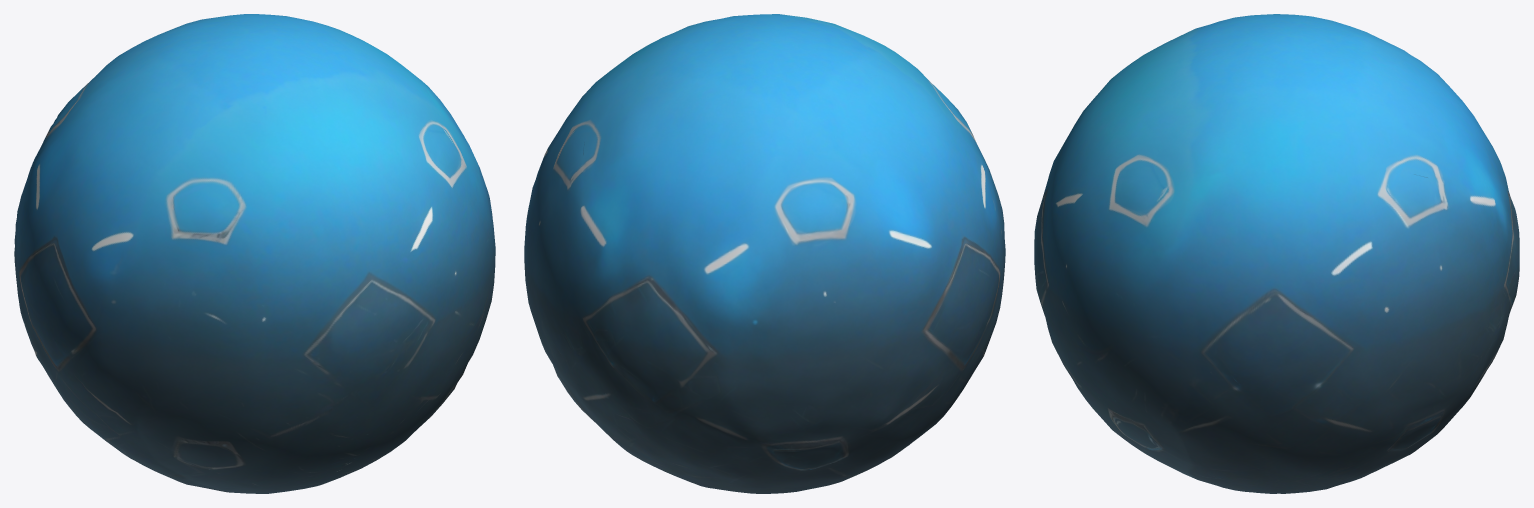
The model's file is Luminous_Sphere_0926182042_texture.fbx.
The picture shows the model from 3 angles, left to right: view 1: azimuth 30°, elevation 25°; view 2: azimuth 150°, elevation 25°; view 3: azimuth 270°, elevation 25°; orthographic projection.
Parts seen in each view (by area): view 1: Mesh0; view 2: Mesh0; view 3: Mesh0.
Part boxes in pixels (<box>): Mesh0: <box>14,14,495,493</box>; Mesh0: <box>524,14,1005,493</box>; Mesh0: <box>1034,14,1519,493</box>.
Bounding box in the file's own units: 134 × 132 × 134.
Materials: 1 (1 with a texture image).
